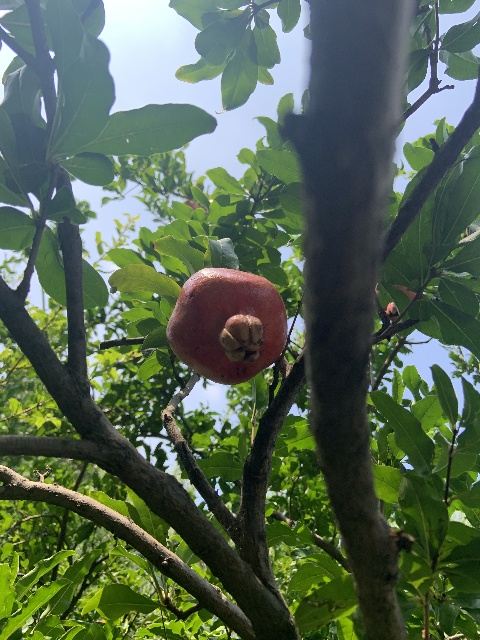ripe: (166, 267, 288, 385), (375, 281, 416, 321)
